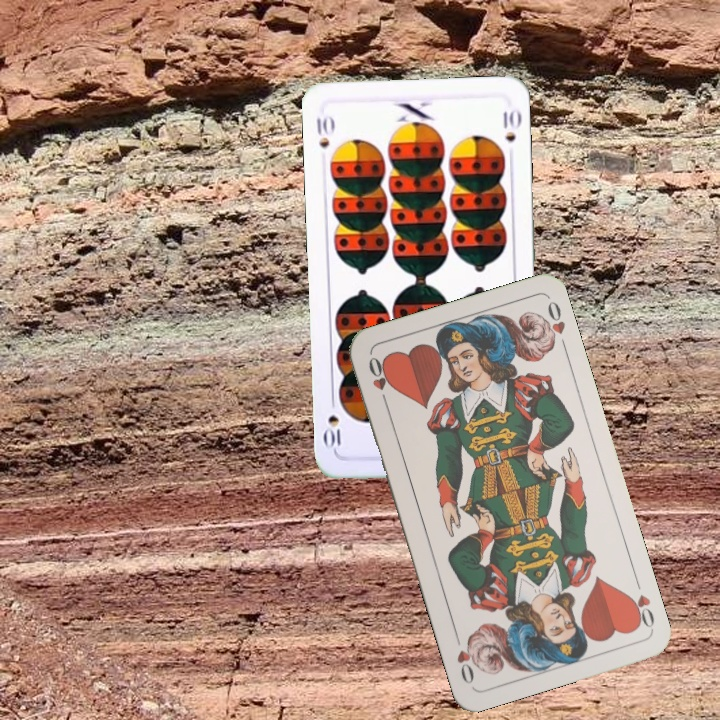HO: (624, 573, 657, 631), (364, 352, 393, 409)
S10: (312, 111, 336, 151)
